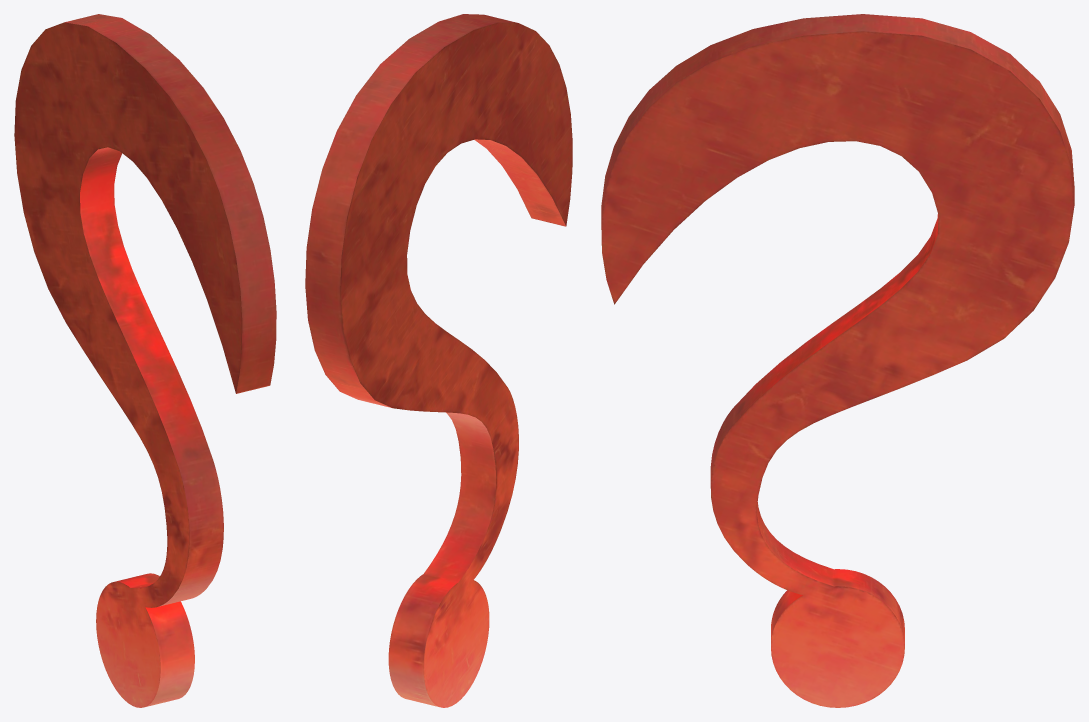
Rendered from Question 2.glb.
3 renders of one model, left to right at view 1: azimuth 30°, elevation 25°; view 2: azimuth 150°, elevation 25°; view 3: azimuth 270°, elevation 25°, orthographic. The views are drawn at different scales.
Visible parts, largest first — view 1: Question 2.001; view 2: Question 2.001; view 3: Question 2.001.
Part boxes in pixels (x1,y1,x2,y2): Question 2.001: (14, 14, 276, 707); Question 2.001: (305, 14, 572, 707); Question 2.001: (601, 14, 1074, 707).
Bounding box in the file's own units: 0.0319 × 0.5798 × 0.3675.
1 material, 1 textured.
